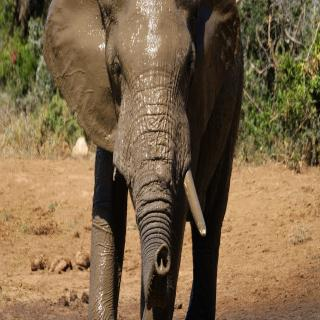Elephant: (39, 0, 246, 320)
